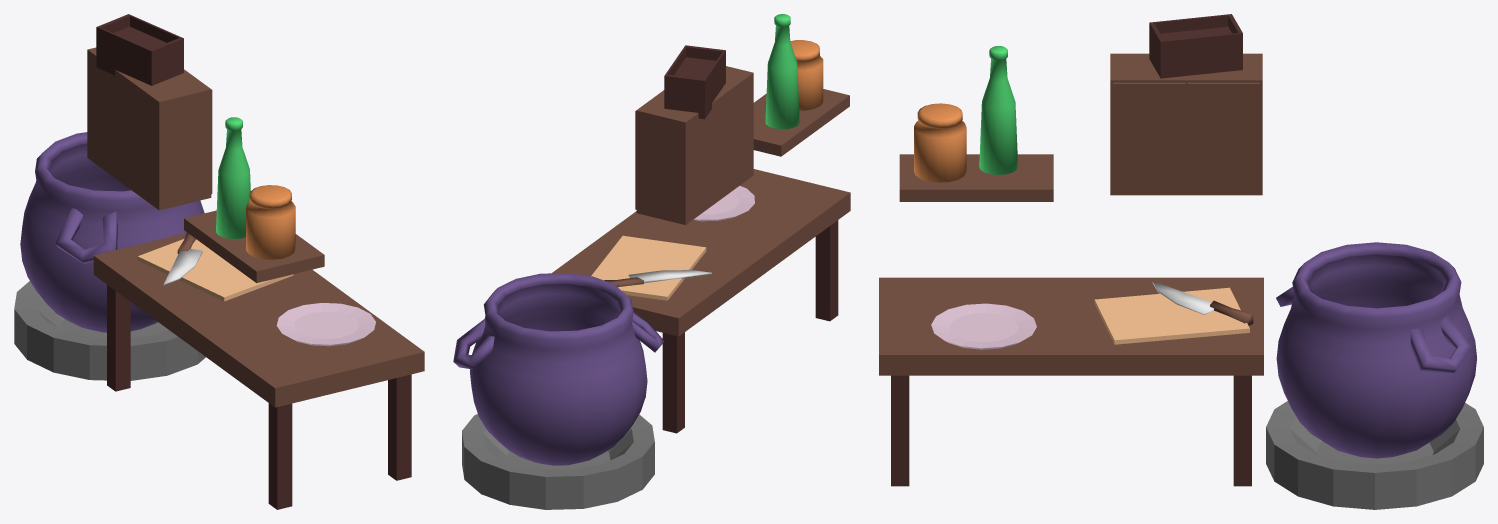
The model's file is workstation_cooking_v1.1.fbx.
The picture shows the model from 3 angles, left to right: view 1: azimuth 30°, elevation 25°; view 2: azimuth 150°, elevation 25°; view 3: azimuth 270°, elevation 25°; orthographic projection. The views are drawn at different scales.
Parts seen in each view (by area): view 1: Cube.004, Cube.029, Sphere.001, Cylinder.002, Cube.026, Cube.028, Cylinder.010, Cylinder.009, Cylinder.011; view 2: Sphere.001, Cube.004, Cube.029, Cylinder.002, Cube.026, Cylinder.011, Cube.028, Cylinder.010, Cylinder.009; view 3: Sphere.001, Cube.004, Cube.029, Cylinder.002, Cube.026, Cube.028, Cylinder.010, Cylinder.011, Cylinder.009.
Boxes of the visible parts, <box> form: Cube.004: <box>93,233,424,509</box>; Cube.029: <box>87,14,212,210</box>; Sphere.001: <box>20,132,204,332</box>; Cylinder.002: <box>14,281,205,380</box>; Cube.026: <box>137,232,293,301</box>; Cube.028: <box>184,210,324,283</box>; Cylinder.010: <box>246,185,295,259</box>; Cylinder.009: <box>276,303,375,346</box>; Cylinder.011: <box>216,117,250,238</box>; Sphere.001: <box>453,273,664,465</box>; Cube.004: <box>552,169,850,433</box>; Cube.029: <box>635,45,753,224</box>; Cylinder.002: <box>462,414,654,509</box>; Cube.026: <box>591,235,711,300</box>; Cylinder.011: <box>765,14,799,129</box>; Cube.028: <box>753,89,849,156</box>; Cylinder.010: <box>790,40,823,110</box>; Cylinder.009: <box>693,186,754,221</box>; Sphere.001: <box>1276,242,1476,458</box>; Cube.004: <box>879,277,1263,486</box>; Cube.029: <box>1110,14,1262,195</box>; Cylinder.002: <box>1266,401,1483,509</box>; Cube.026: <box>1094,281,1253,344</box>; Cube.028: <box>899,154,1053,201</box>; Cylinder.010: <box>914,103,966,182</box>; Cylinder.011: <box>979,46,1017,174</box>; Cylinder.009: <box>931,303,1036,349</box>.
Bounding box in the file's own units: 123 × 253 × 343.
